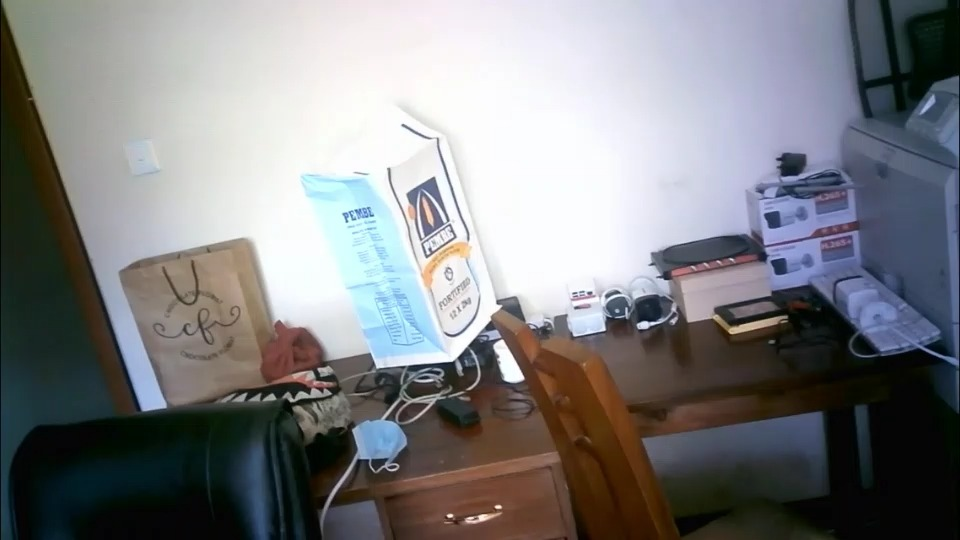wheat_flour_blue_label: (301, 104, 501, 364)
